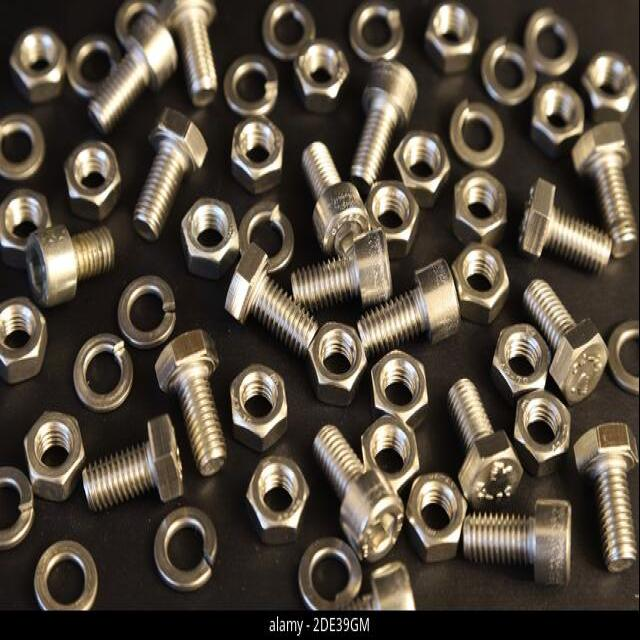Bolt: (312, 418, 402, 554), (85, 10, 176, 144), (152, 328, 229, 485), (80, 408, 185, 523), (457, 495, 576, 595), (356, 252, 460, 364), (522, 277, 612, 405), (224, 239, 318, 356), (130, 113, 212, 247), (575, 418, 640, 582), (443, 374, 522, 506), (570, 121, 638, 274), (516, 175, 612, 278), (350, 52, 419, 192), (288, 228, 391, 320), (22, 221, 120, 313), (303, 133, 369, 254), (168, 0, 223, 113)
Nut: (237, 454, 307, 549), (21, 413, 87, 506), (368, 342, 433, 431), (402, 472, 464, 564), (304, 322, 368, 410), (511, 390, 574, 478), (63, 134, 127, 220), (357, 414, 422, 496), (227, 364, 288, 449), (0, 293, 53, 390), (451, 167, 513, 248), (180, 192, 240, 275), (394, 126, 452, 208), (6, 26, 66, 105), (364, 177, 424, 256), (489, 323, 550, 400), (294, 36, 354, 113), (0, 184, 55, 267), (582, 46, 638, 126), (454, 244, 512, 321), (528, 76, 581, 160), (228, 113, 288, 185), (423, 0, 479, 74)
